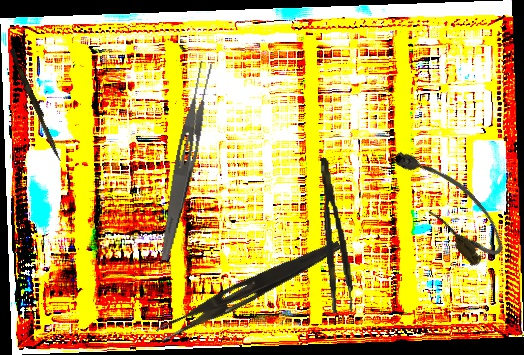Cannula: (385, 133, 513, 272)
Dressing Forceps: (154, 230, 344, 350), (156, 59, 217, 263)
Pusher: (6, 48, 66, 162)
Tissue Forceps: (318, 156, 355, 314)
